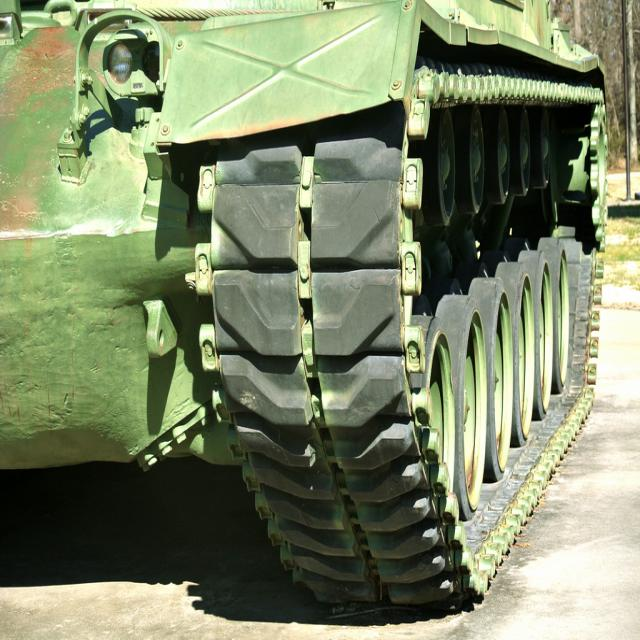tank: (0, 0, 610, 608)
